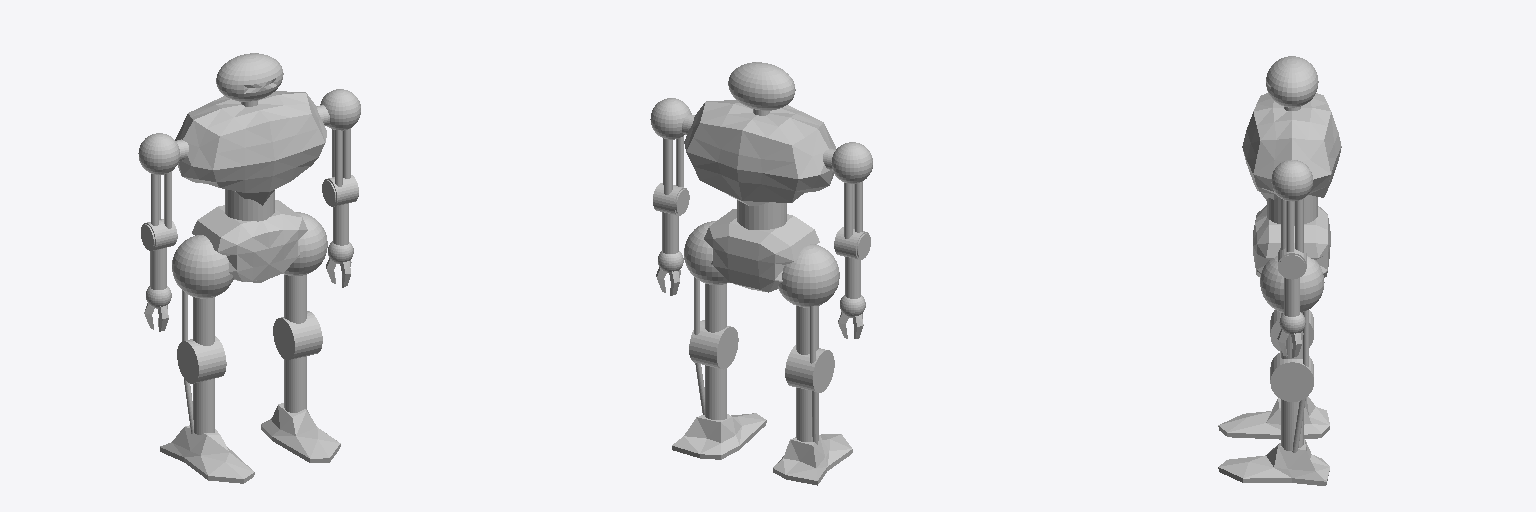
The model's file is robot.obj.
3 renders of one model, left to right at view 1: azimuth 30°, elevation 25°; view 2: azimuth 150°, elevation 25°; view 3: azimuth 270°, elevation 25°, orthographic.
Visible parts, largest first — view 1: Cylinder.003_Cylinder.016; view 2: Cylinder.003_Cylinder.016; view 3: Cylinder.003_Cylinder.016.
Boxes of the visible parts, box(x1,y1,x2,y2) form: Cylinder.003_Cylinder.016: box(138, 53, 360, 483); Cylinder.003_Cylinder.016: box(650, 62, 872, 485); Cylinder.003_Cylinder.016: box(1218, 56, 1341, 485).
Size of the model in its own units: 1.66 by 2.84 by 0.8145.